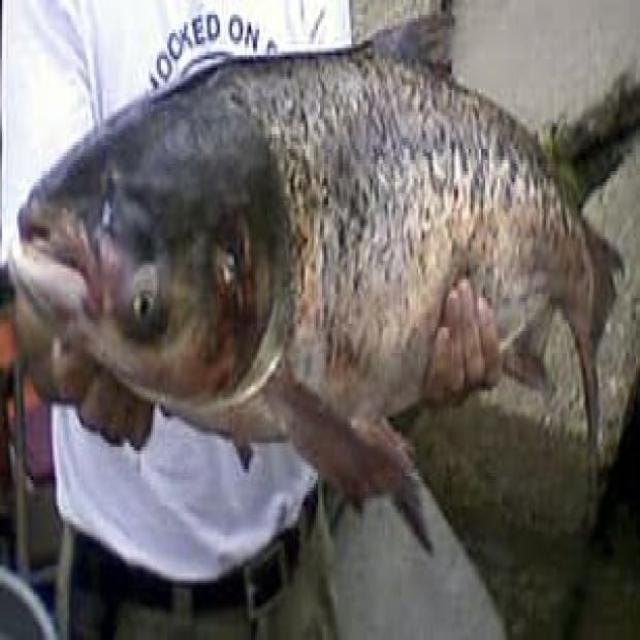Big-Head-Carp: (2, 2, 623, 587)
